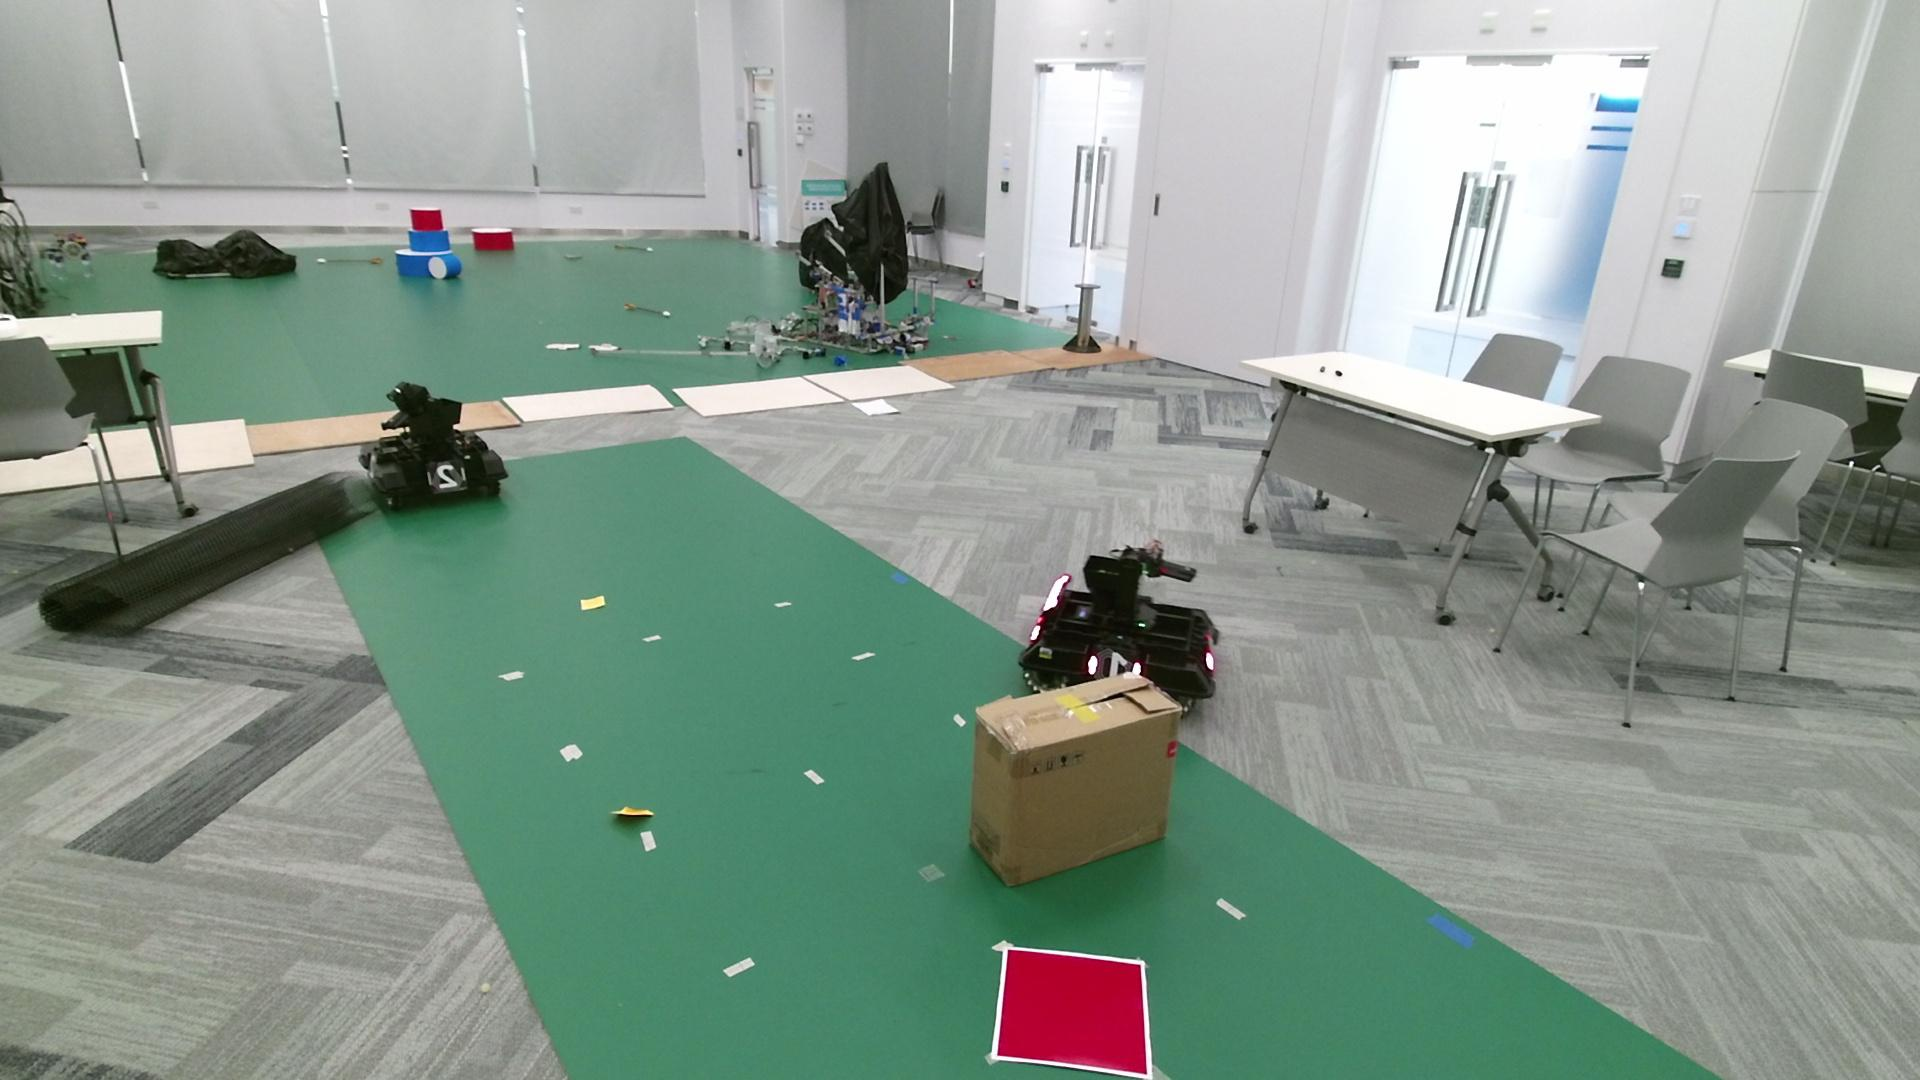robot: (1018, 538, 1220, 717), (359, 381, 510, 510)
